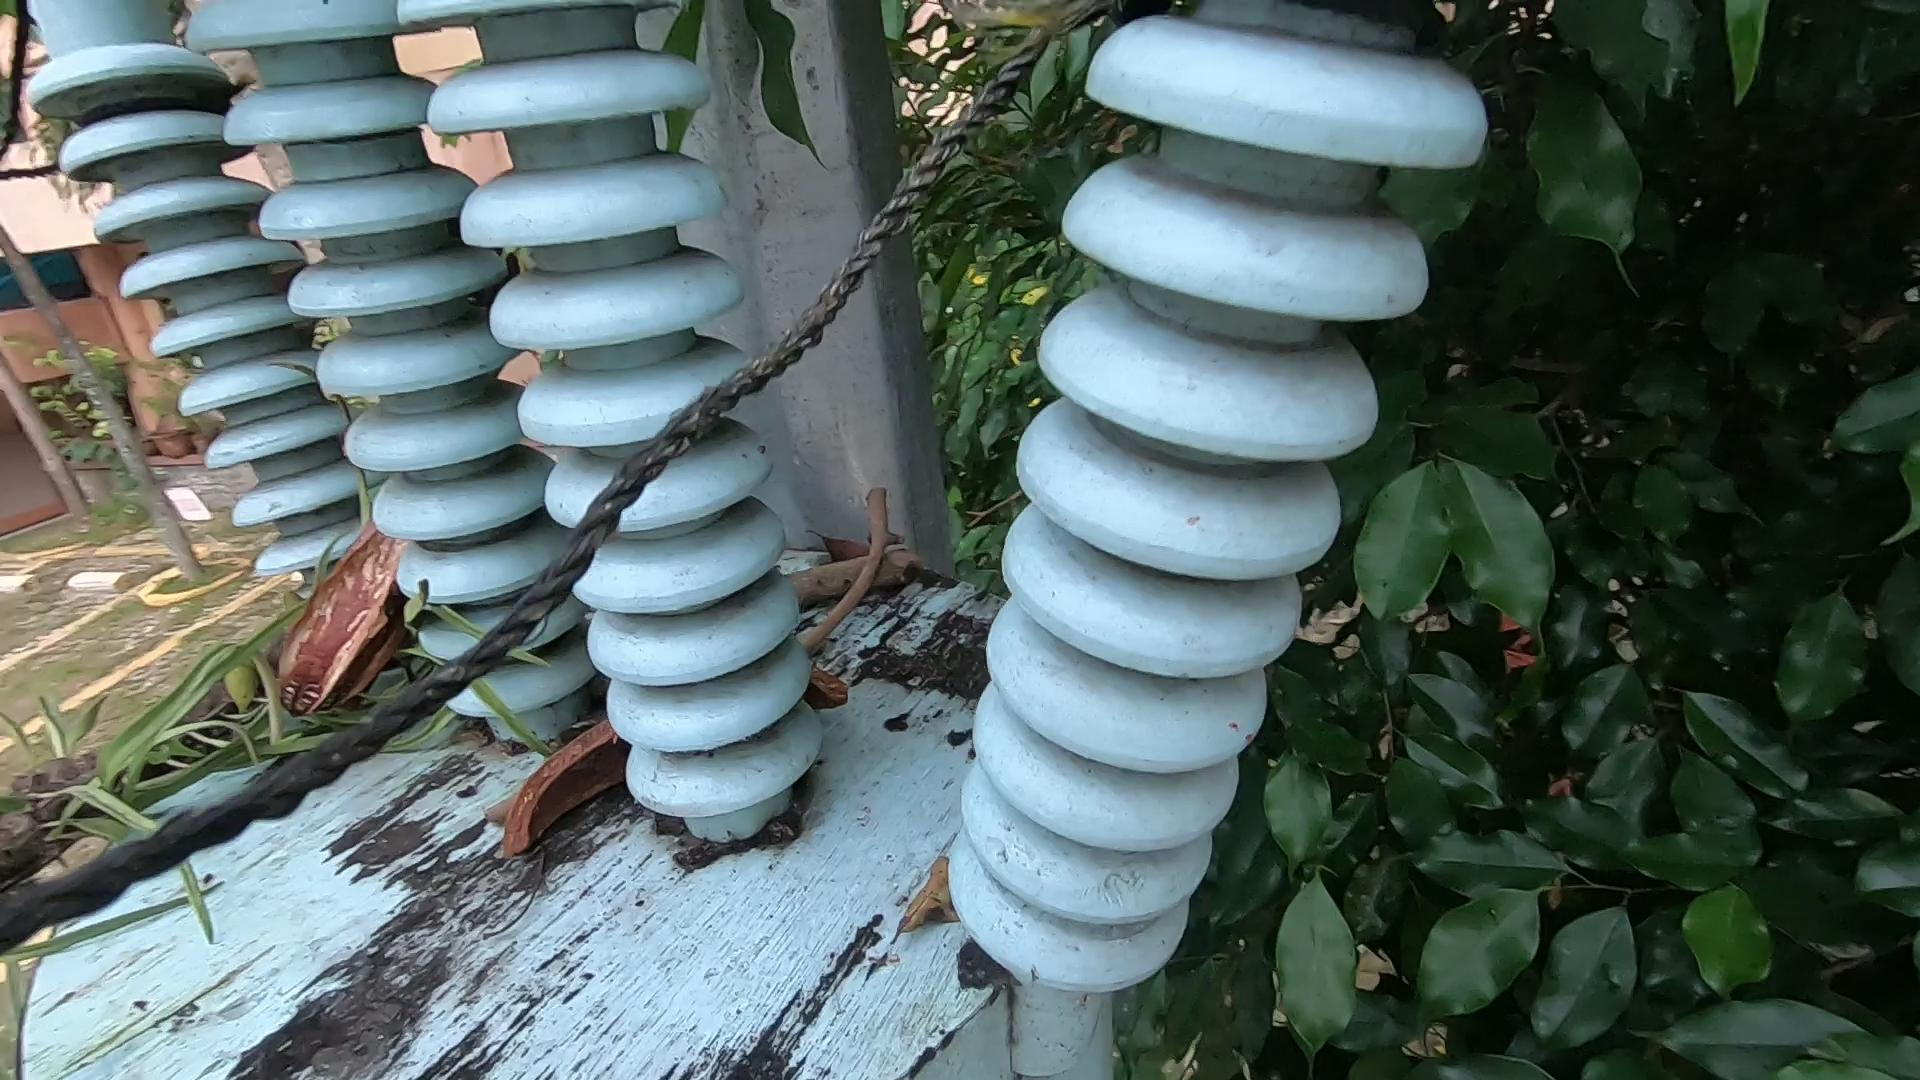branch with leaves: (37, 392, 906, 998)
leaf: (887, 836, 972, 971)
mahogany fruit: (193, 488, 433, 719), (533, 686, 653, 847)
tree branch: (473, 448, 924, 878)
